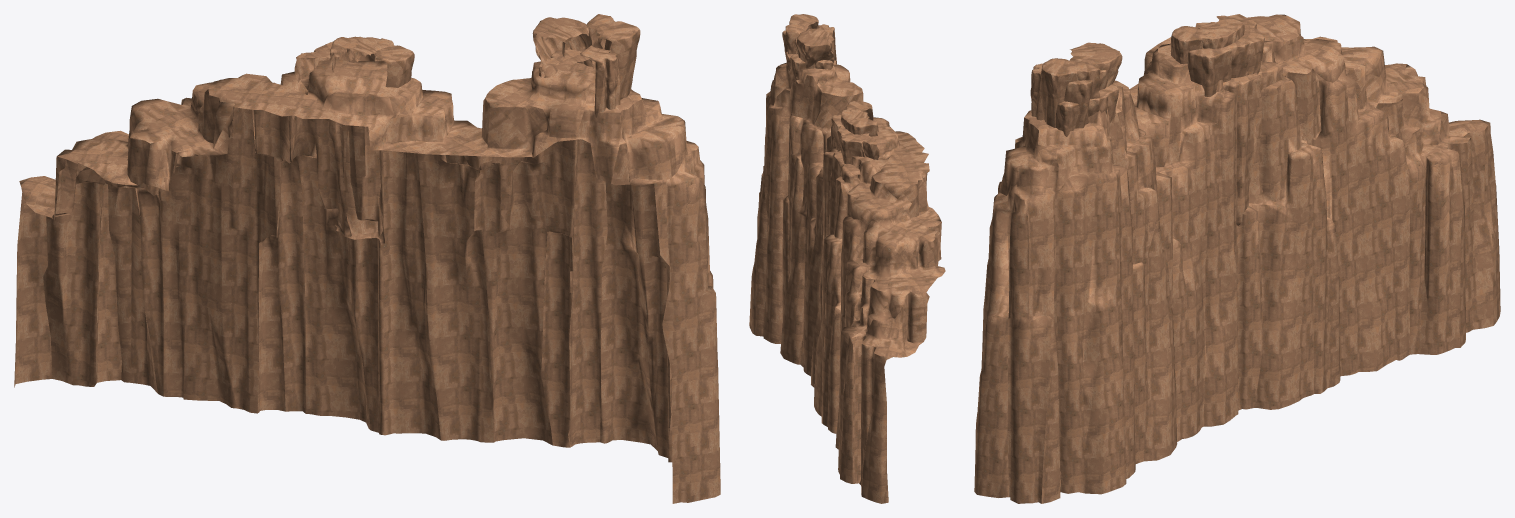
File: Ob_RockCliff01.fbx
3 views of the same model, side by side, from view 1: azimuth 30°, elevation 25°; view 2: azimuth 150°, elevation 25°; view 3: azimuth 270°, elevation 25° (orthographic). The views are drawn at different scales.
Visible parts, largest first — view 1: Ob_RockCliff01; view 2: Ob_RockCliff01; view 3: Ob_RockCliff01.
Part boxes in pixels (box(x1,y1,x2,y2)): Ob_RockCliff01: box(14, 14, 720, 503); Ob_RockCliff01: box(749, 14, 945, 503); Ob_RockCliff01: box(974, 14, 1500, 503).
Bounding box in the file's own units: 155023 × 146412 × 173008.
